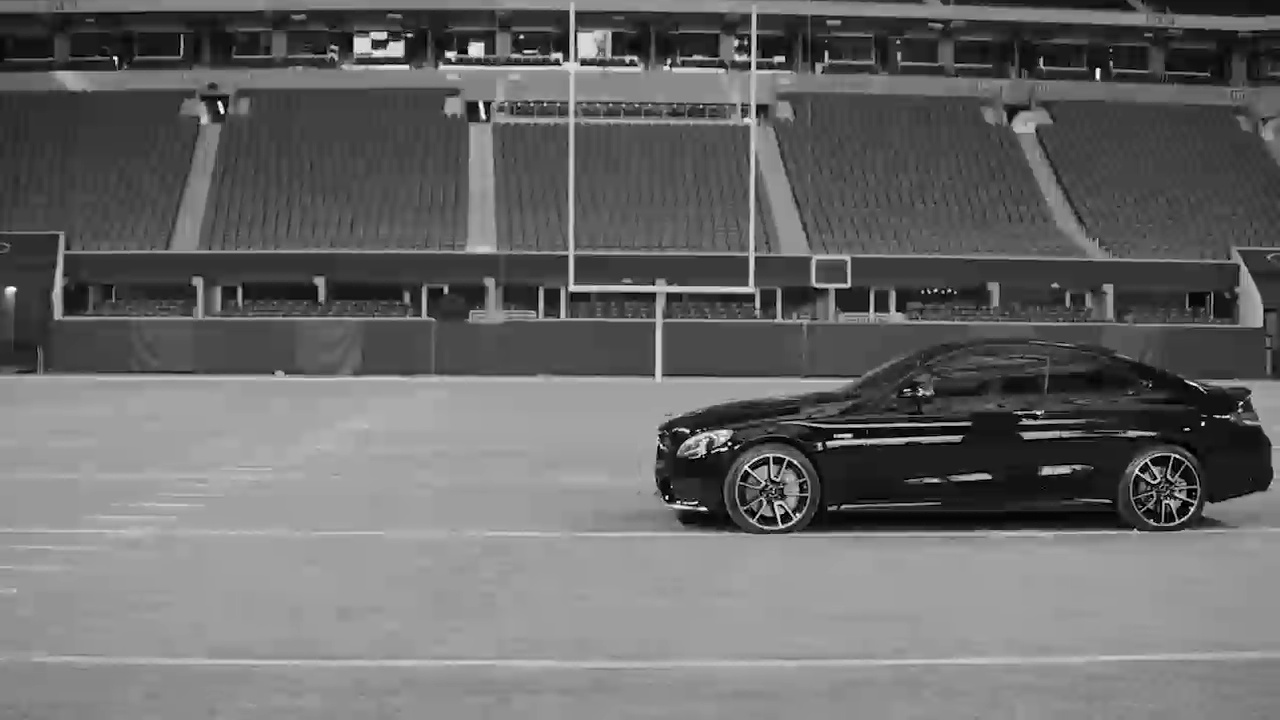car: (652, 335, 1280, 539)
